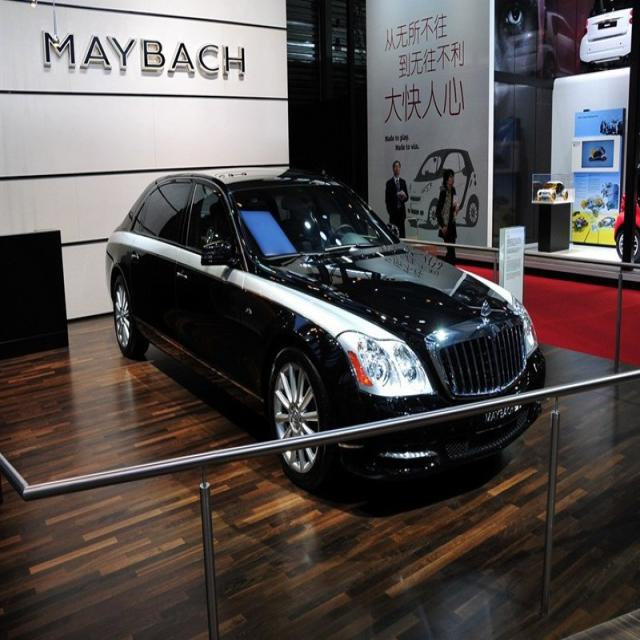door: (143, 176, 196, 332)
front_bumper: (327, 344, 548, 480)
front_glass: (227, 182, 401, 265)
front_left_side_light: (512, 293, 538, 358)
front_left_side_mirror: (386, 220, 401, 241)
front_right_side_door: (174, 175, 248, 398)
front_right_side_light: (334, 329, 437, 398)
front_right_side_mirror: (201, 237, 237, 269)
wheel: (269, 351, 331, 487), (113, 274, 149, 358)
